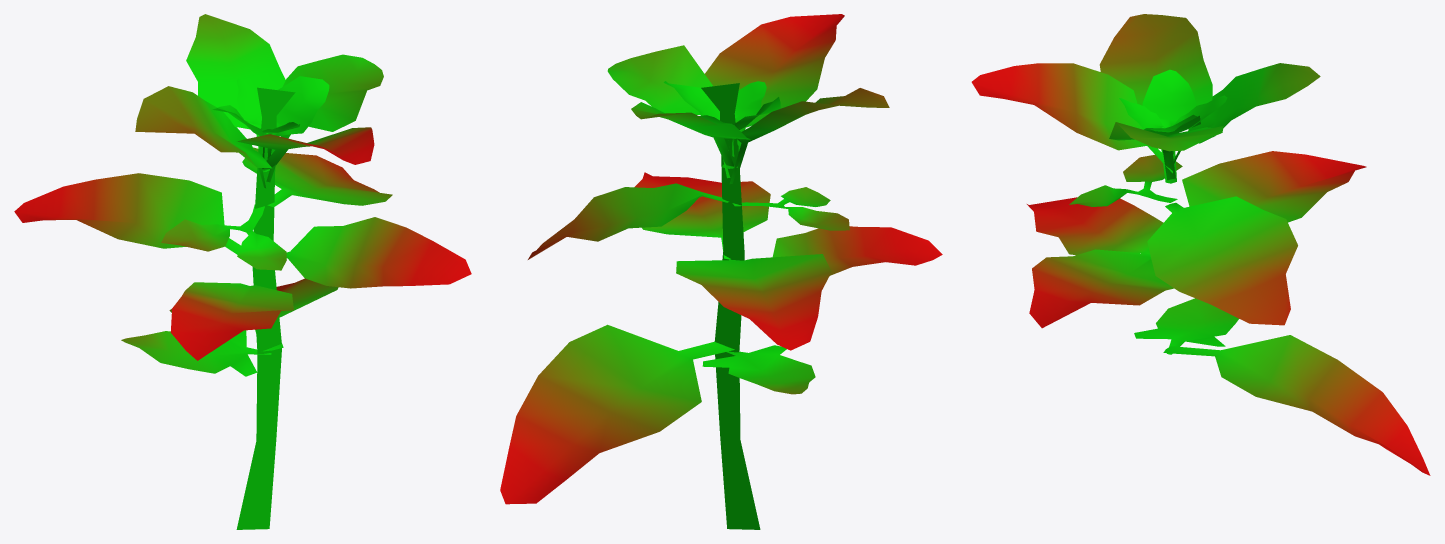
The model's file is Var1_LOD0.fbx.
3 renders of one model, left to right at view 1: azimuth 30°, elevation 25°; view 2: azimuth 150°, elevation 25°; view 3: azimuth 270°, elevation 25°, orthographic.
Visible parts, largest first — view 1: _f620_Var1_LOD0; view 2: _f620_Var1_LOD0; view 3: _f620_Var1_LOD0.
Boxes of the visible parts, left/top/right/bottom form: _f620_Var1_LOD0: left=14, top=14, right=471, bottom=529; _f620_Var1_LOD0: left=500, top=14, right=942, bottom=529; _f620_Var1_LOD0: left=971, top=14, right=1430, bottom=475.
Size of the model in its own units: 15.52 by 22.22 by 19.98.
